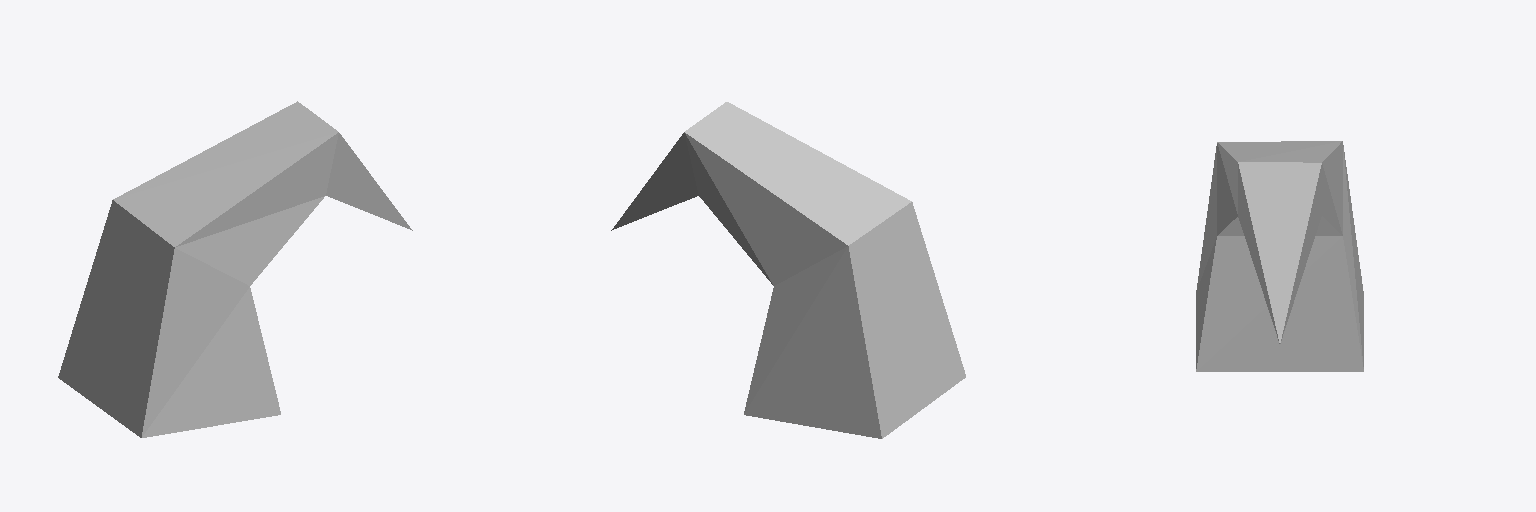
The model's file is skeletal_000012.obj.
3 renders of one model, left to right at view 1: azimuth 30°, elevation 25°; view 2: azimuth 150°, elevation 25°; view 3: azimuth 270°, elevation 25°, orthographic.
Parts seen in each view (by area): view 1: Cube; view 2: Cube; view 3: Cube.
Boxes of the visible parts, x1,y1,x2,y2 form: Cube: [58, 101, 412, 437]; Cube: [611, 102, 965, 438]; Cube: [1196, 141, 1363, 371].
Bounding box in the file's own units: 4.31 × 3.26 × 2.